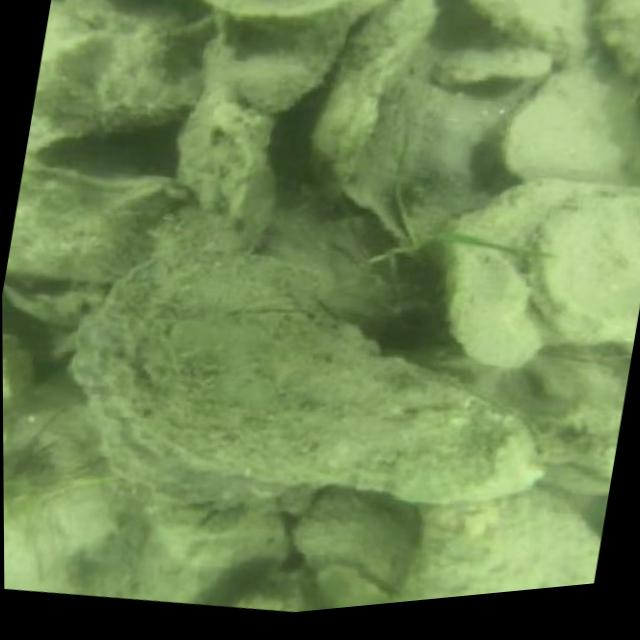Oyster-Closed: (313, 0, 435, 205), (5, 167, 194, 279), (300, 491, 417, 592)
Oyster-Indeterminate: (119, 304, 547, 503), (66, 254, 321, 508), (403, 494, 597, 602), (505, 57, 640, 185), (536, 191, 640, 351), (233, 0, 373, 115), (443, 247, 537, 371), (471, 0, 589, 68), (597, 0, 640, 104)
